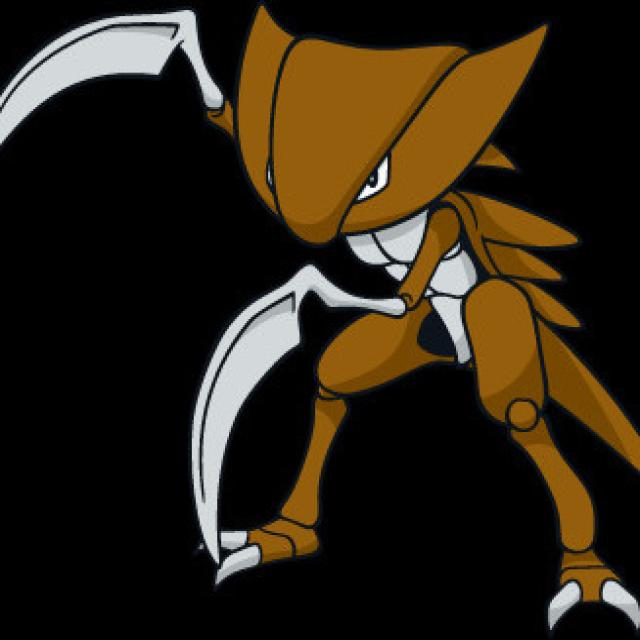Kabutops: (189, 2, 640, 588)
